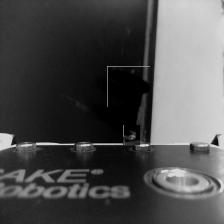Door Handle: (107, 66, 150, 107)
Lock: (121, 126, 141, 144)
